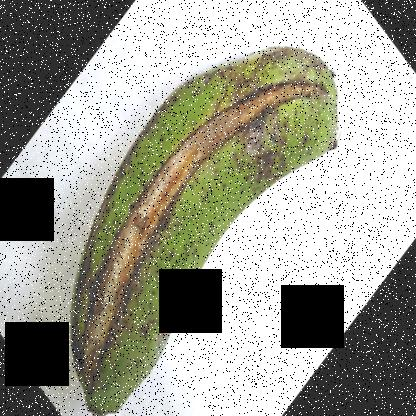rotten: (69, 60, 332, 379)
